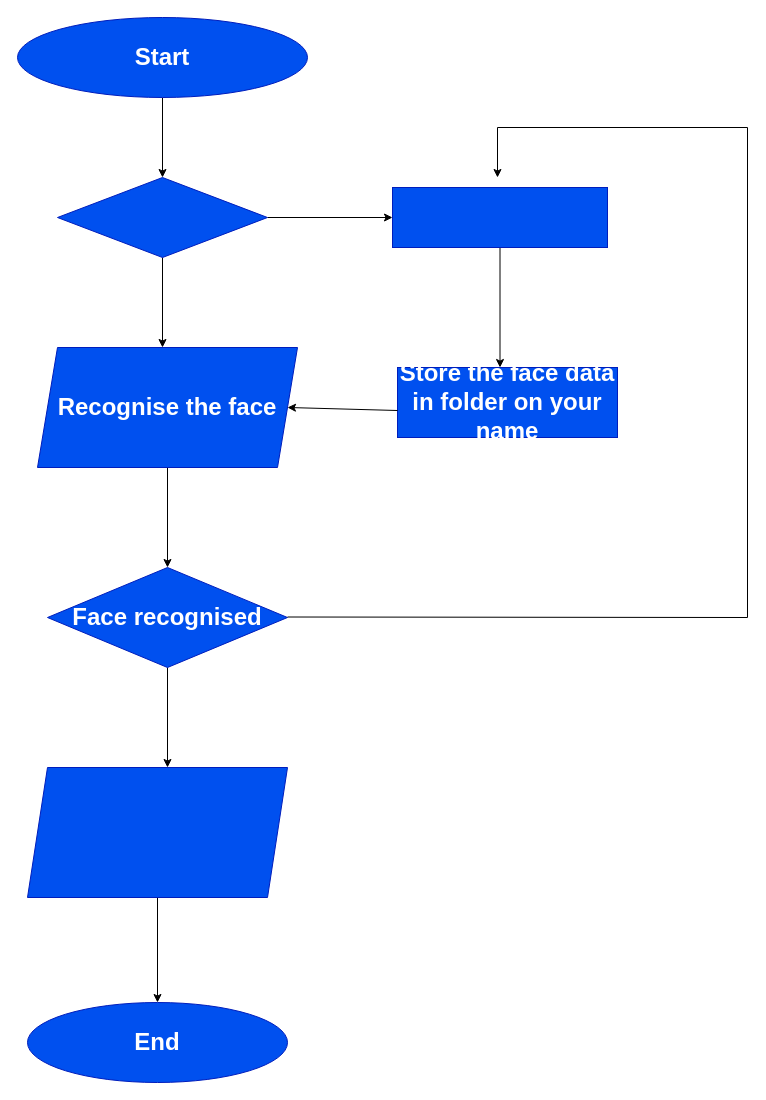
The diagram is 766 pixels wide and 1100 high, and some of its shapes have lost their labels. Here are the shapes that lost their labels. From the top down, the box of each, then its label:
(56, 176, 268, 258): New User?
(392, 186, 608, 248): Give your photograph
(26, 766, 288, 898): store in CSV file with registration number and date and time of entry
